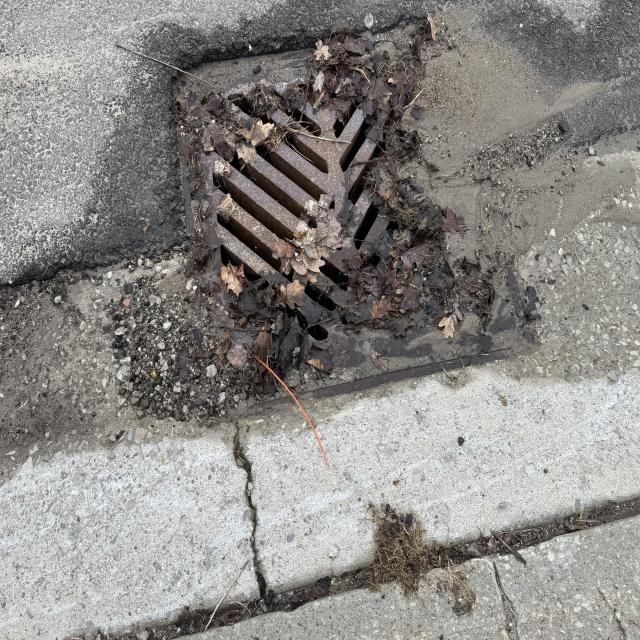Manhole: (183, 64, 512, 372)
